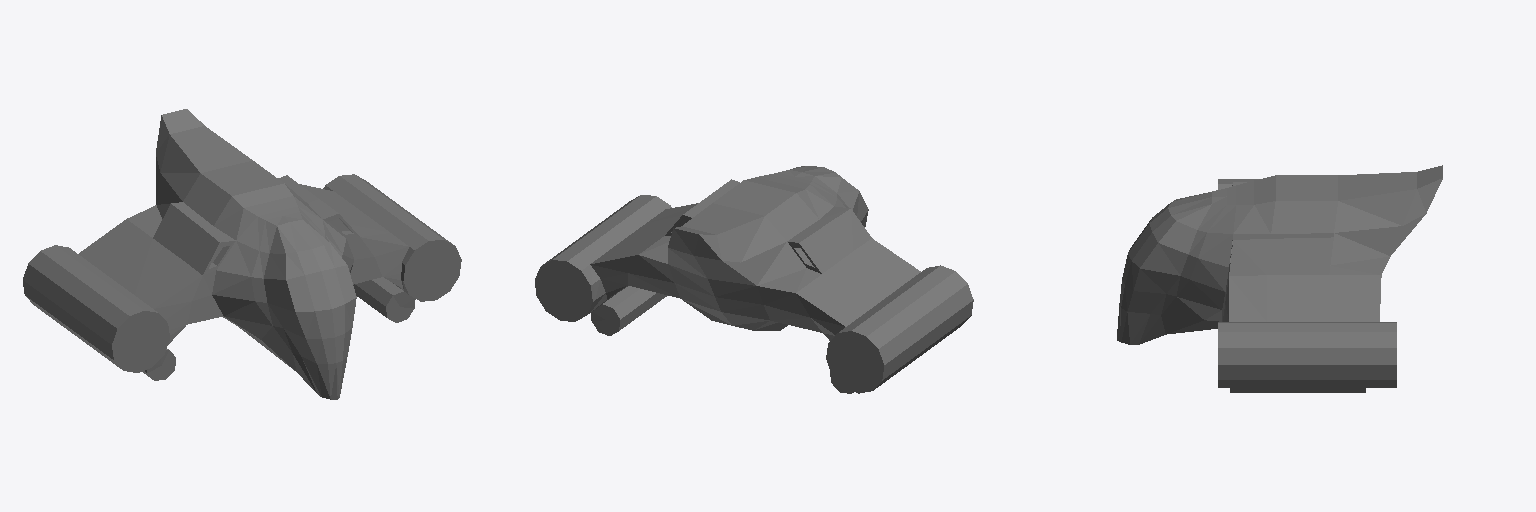
The model's file is Boss_Minigun.obj.
3 views of the same model, side by side, from view 1: azimuth 30°, elevation 25°; view 2: azimuth 150°, elevation 25°; view 3: azimuth 270°, elevation 25° (orthographic).
Parts seen in each view (by area): view 1: Boss_Minigun_5:pCylinder4; view 2: Boss_Minigun_5:pCylinder4; view 3: Boss_Minigun_5:pCylinder4.
Part boxes in pixels (bbox=[...]): Boss_Minigun_5:pCylinder4: bbox=[23, 109, 461, 399]; Boss_Minigun_5:pCylinder4: bbox=[535, 166, 973, 393]; Boss_Minigun_5:pCylinder4: bbox=[1117, 165, 1442, 392].
Size of the model in its own units: 589 by 272 by 476.